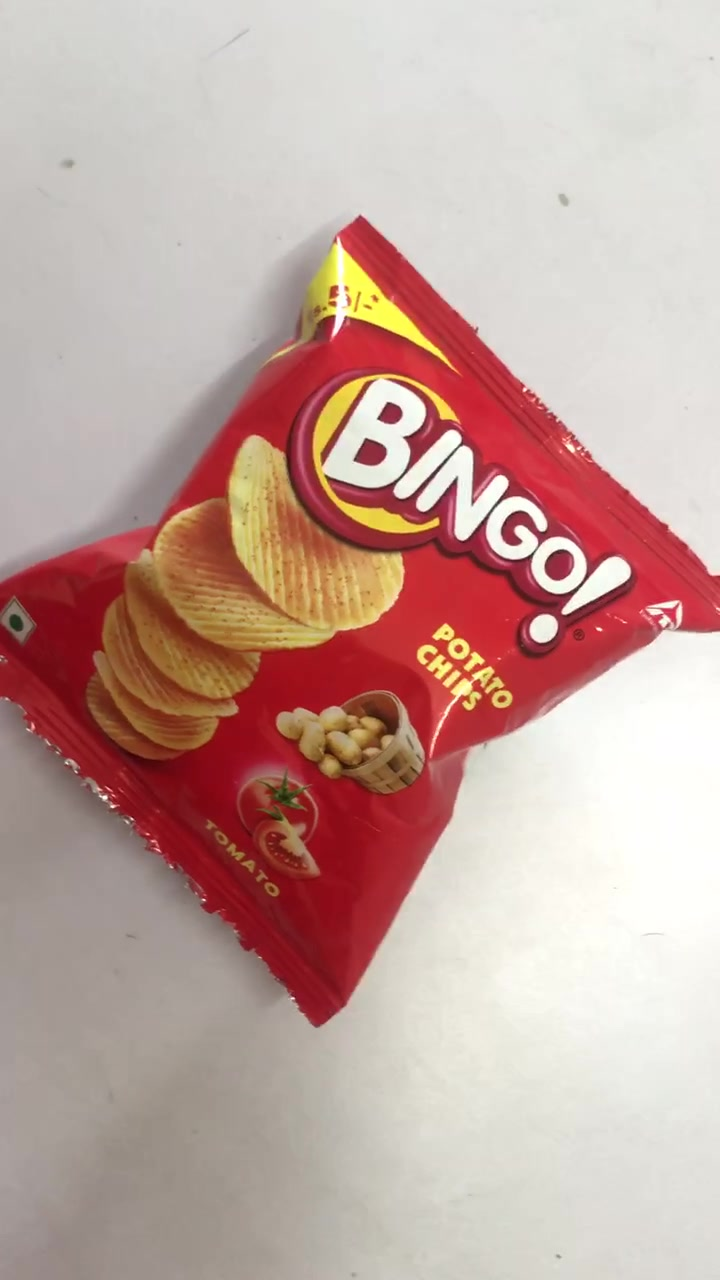Bingo: (9, 217, 720, 1024)
